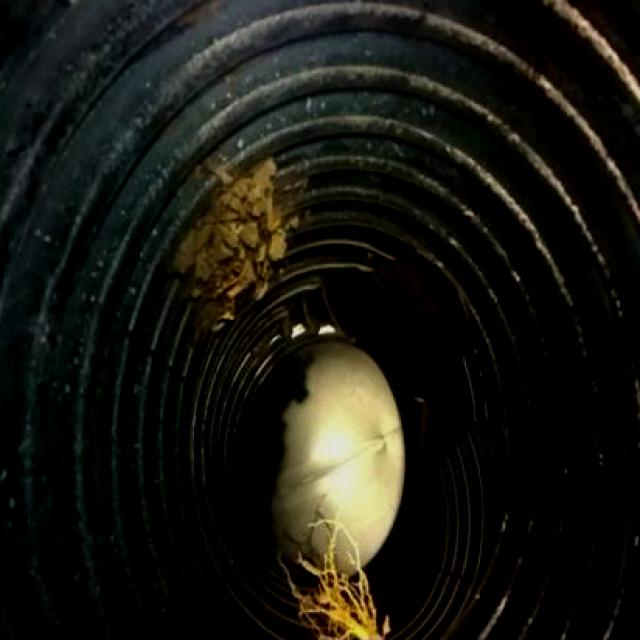dirt: (166, 152, 303, 332)
root: (264, 534, 406, 640)
